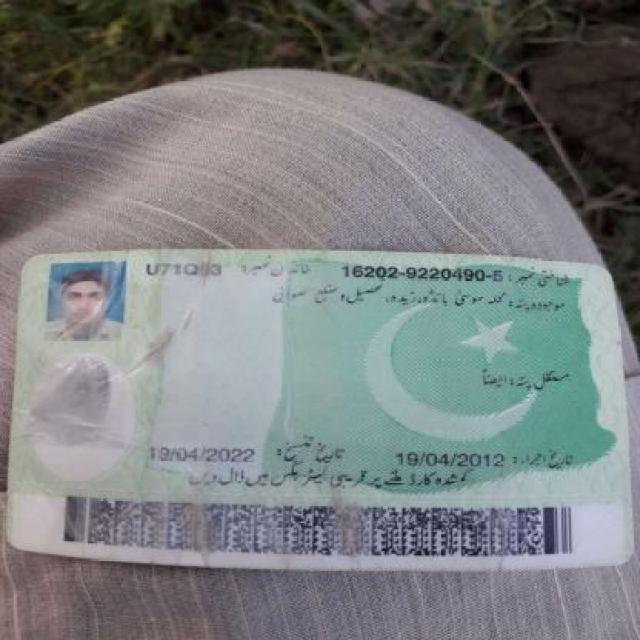Back: (20, 246, 631, 571)
